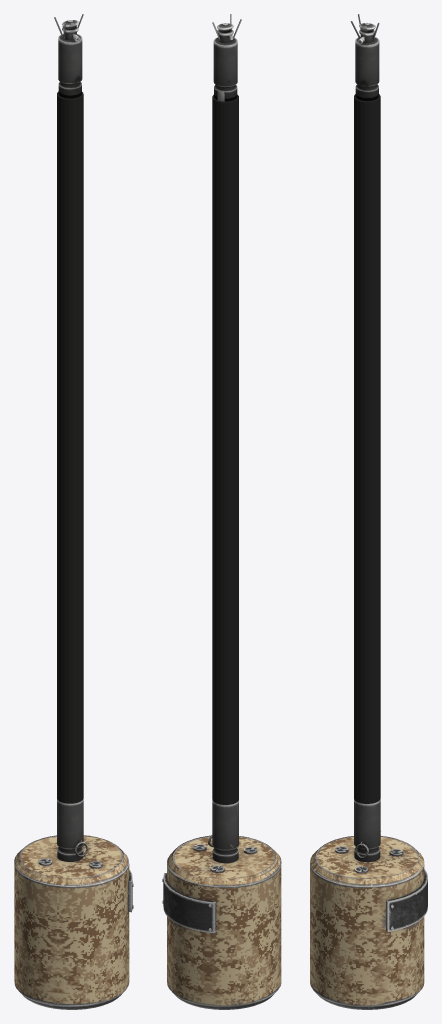
3 renders of one model, left to right at view 1: azimuth 30°, elevation 25°; view 2: azimuth 210°, elevation 25°; view 3: azimuth 330°, elevation 25°, orthographic.
Parts seen in each view (by area): view 1: polySurface31, polySurface31_lambert1_0.001; view 2: polySurface31, polySurface31_lambert1_0.001; view 3: polySurface31, polySurface31_lambert1_0.001.
Part boxes in pixels (<box>): polySurface31: <box>14,91,133,1009</box>; polySurface31_lambert1_0.001: <box>54,14,83,98</box>; polySurface31: <box>162,94,281,1009</box>; polySurface31_lambert1_0.001: <box>212,14,241,101</box>; polySurface31: <box>310,94,427,1009</box>; polySurface31_lambert1_0.001: <box>350,14,379,101</box>.
Size of the model in its own units: 0.09 by 0.8176 by 0.0875.
2 materials, 2 textured.
